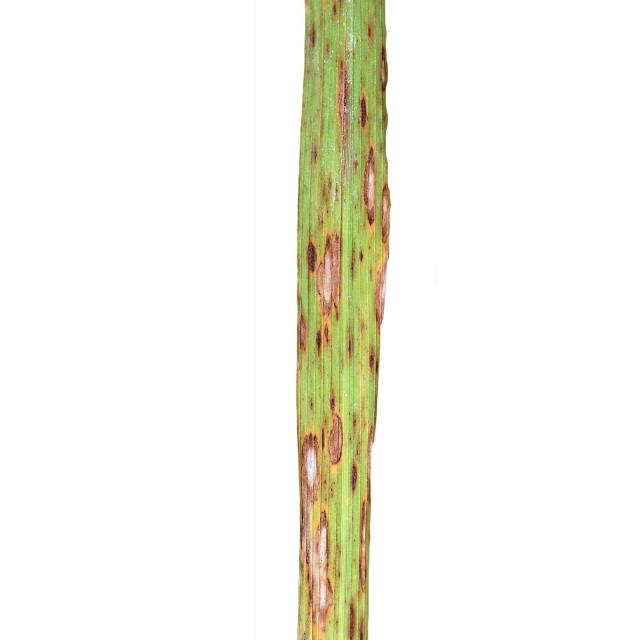Leaf blast: (259, 1, 439, 640)
